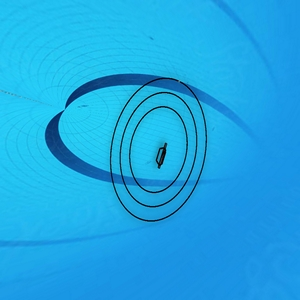circle: (107, 71, 209, 228)
submarine: (156, 141, 168, 168)
